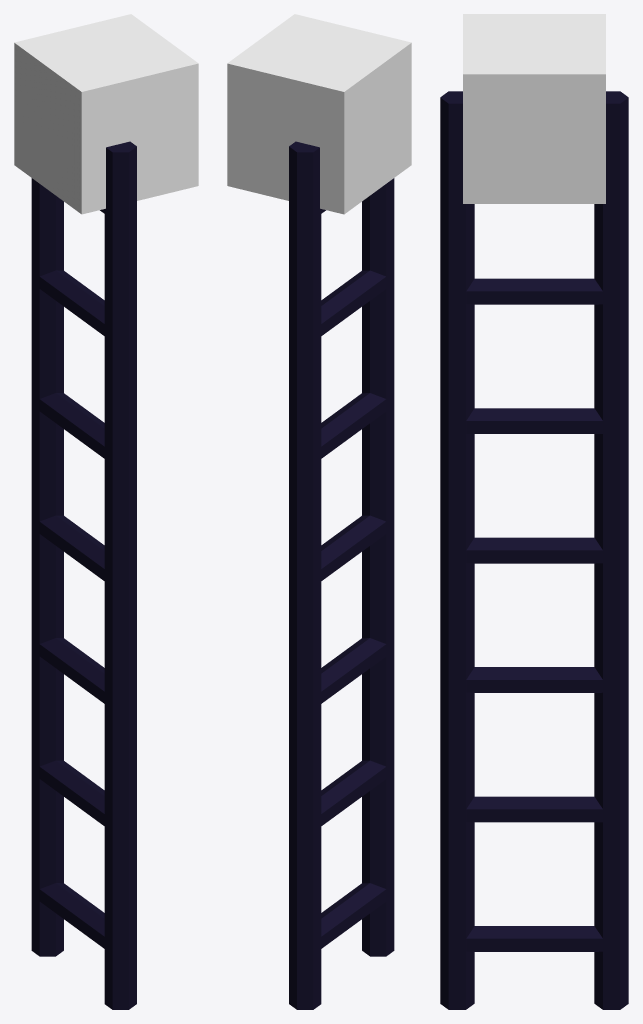
File: Ladder.fbx
3 renders of one model, left to right at view 1: azimuth 30°, elevation 25°; view 2: azimuth 150°, elevation 25°; view 3: azimuth 270°, elevation 25°, orthographic. The views are drawn at different scales.
Visible parts, largest first — view 1: ladder_piece(Clone) (×7), LadderTop; view 2: ladder_piece(Clone) (×7), LadderTop; view 3: ladder_piece(Clone) (×7), LadderTop.
Part boxes in pixels (left/top/right/bottom): ladder_piece(Clone) (×7): left=31, top=141, right=136, bottom=1009; LadderTop: left=14, top=14, right=198, bottom=214; ladder_piece(Clone) (×7): left=289, top=141, right=394, bottom=1009; LadderTop: left=227, top=14, right=411, bottom=214; ladder_piece(Clone) (×7): left=440, top=91, right=628, bottom=1009; LadderTop: left=463, top=14, right=605, bottom=203.
Size of the model in its own units: 1 by 7.5 by 1.32.
